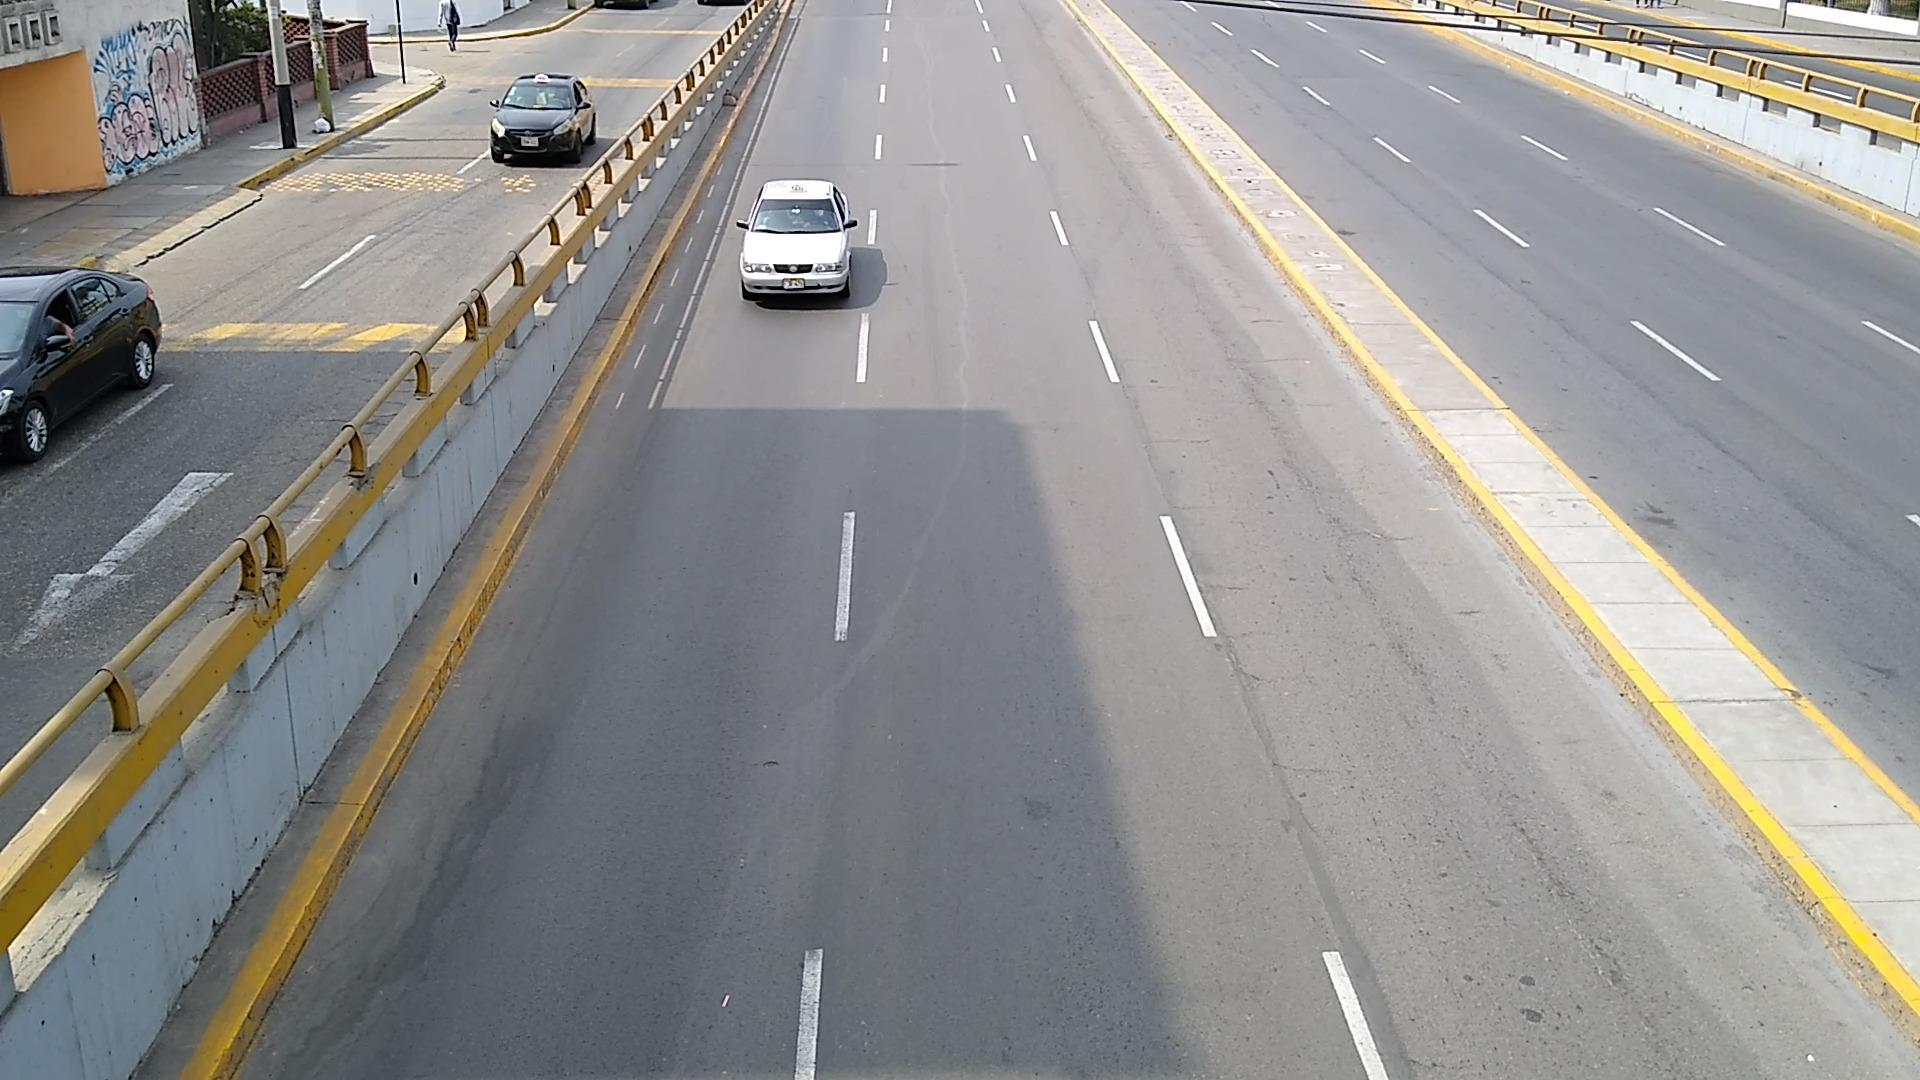car: (0, 266, 161, 461), (735, 180, 855, 300), (491, 71, 596, 163)
